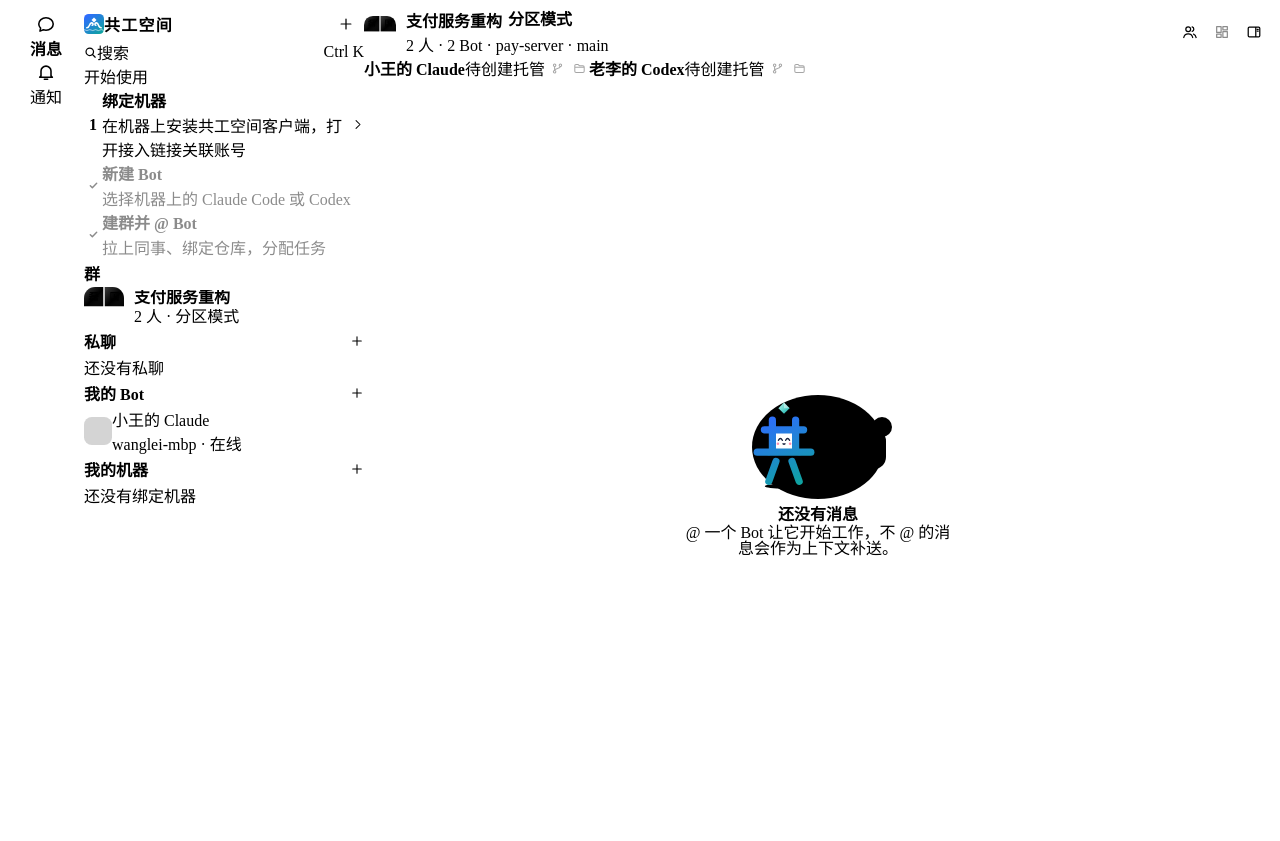
Test: group settings inspector › edits the name and notice, then shows the notice bar
The image size is (1280, 841).
Click the button named "群设置" at (1254, 32), box top-left (1238, 18), bottom-right (1270, 46)
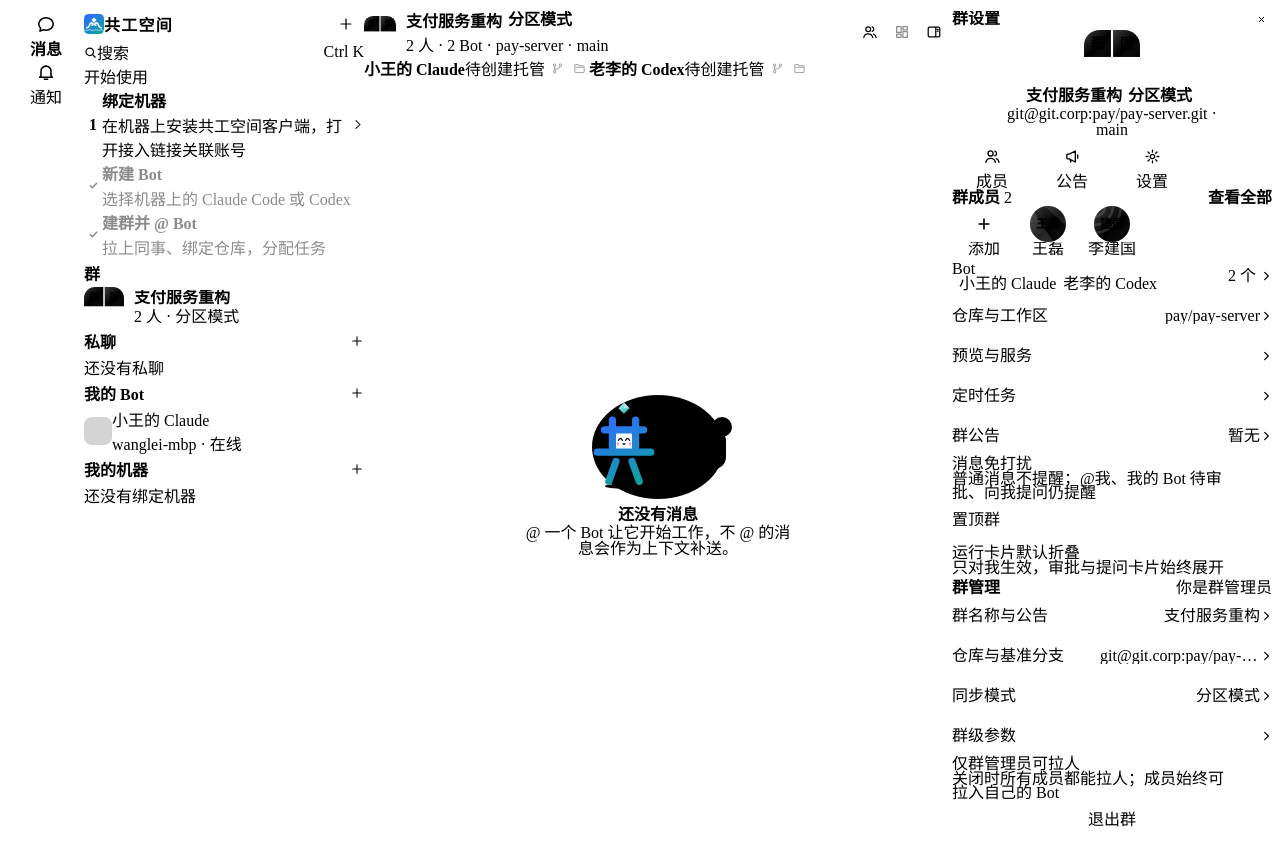
Click the button "群名称与公告 支付服务重构" at (1000, 616), box top-left (952, 596), bottom-right (1272, 636)
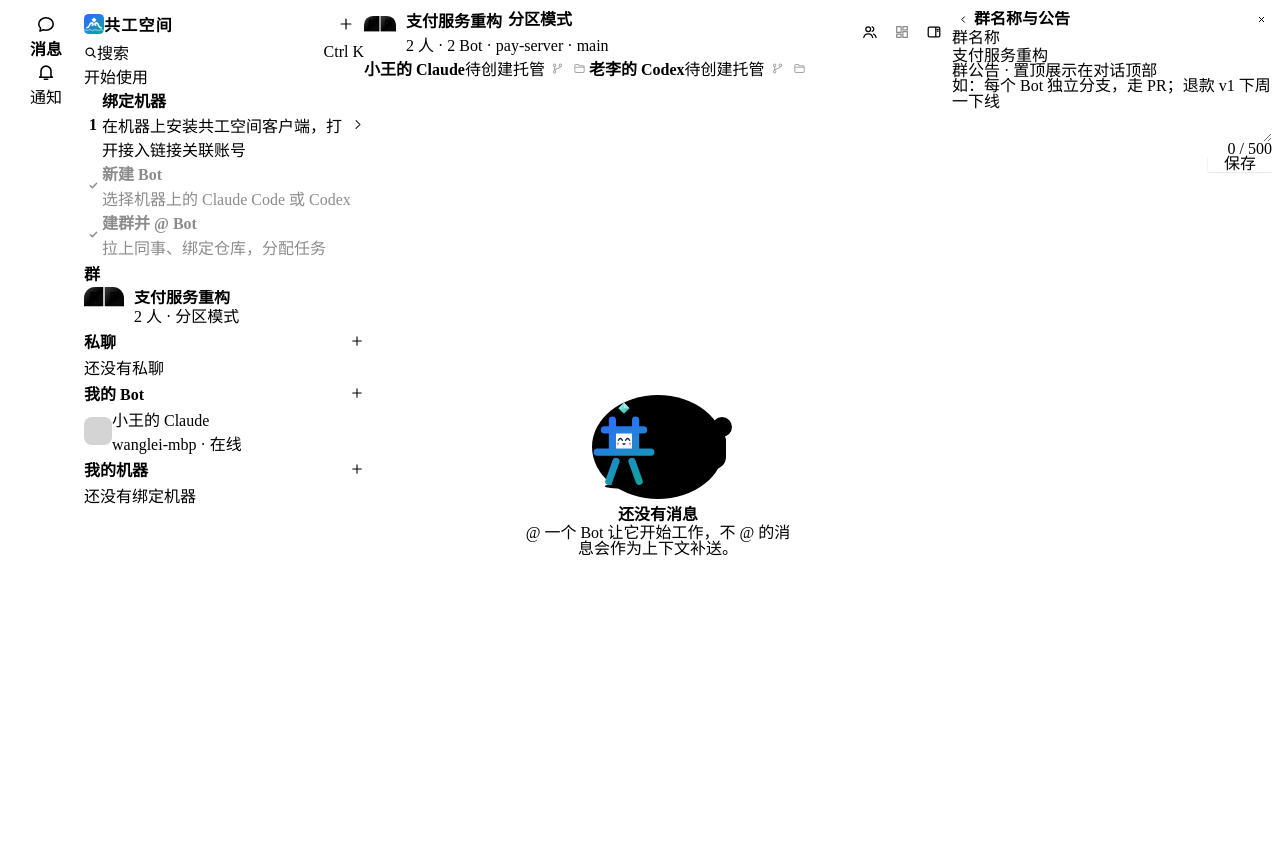
Replace the text in the field labelled "群名称" with "设置后" at (1112, 54), box top-left (952, 45), bottom-right (1272, 63)
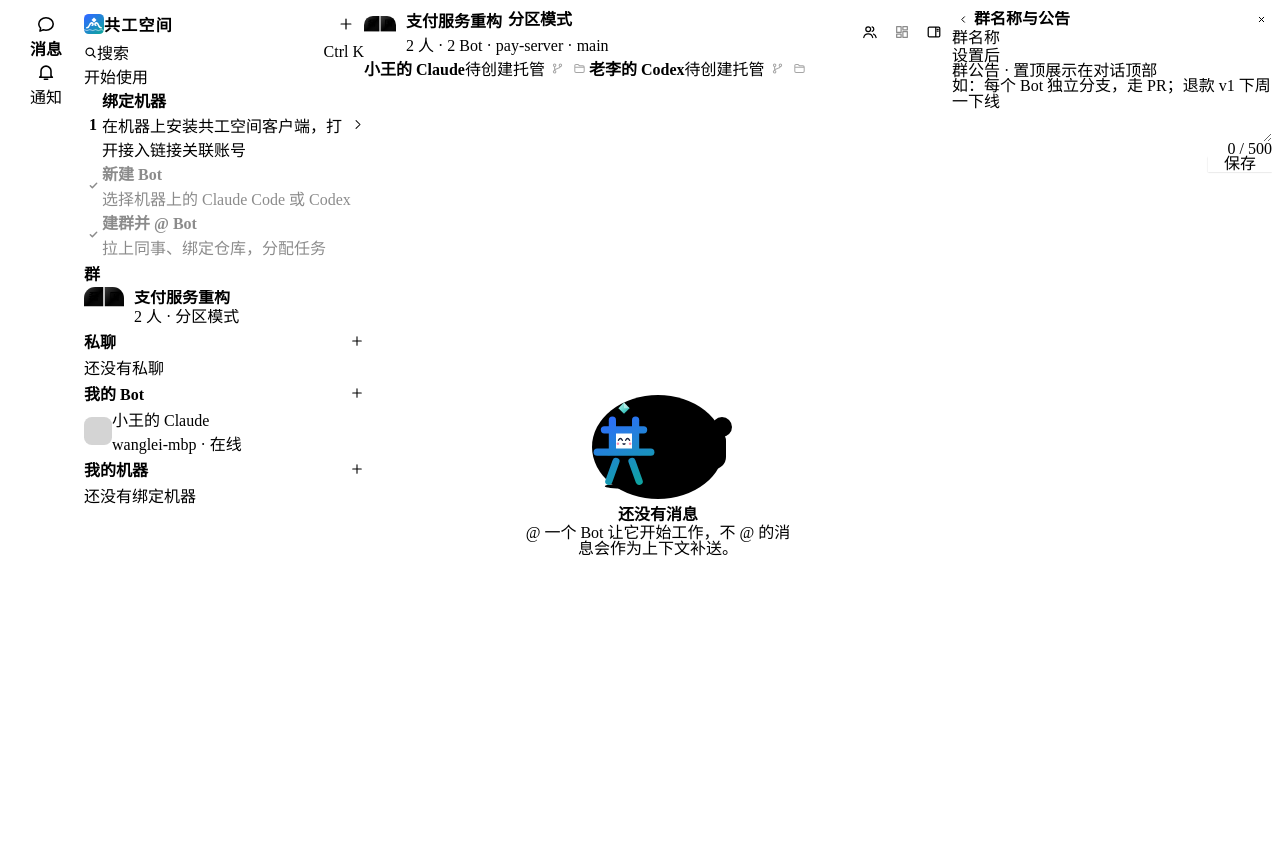
Type "每个 Bot 独立分支，走 PR" into the text box labelled "群公告 · 置顶展示在对话顶部" at (1112, 110), box top-left (952, 78), bottom-right (1272, 142)
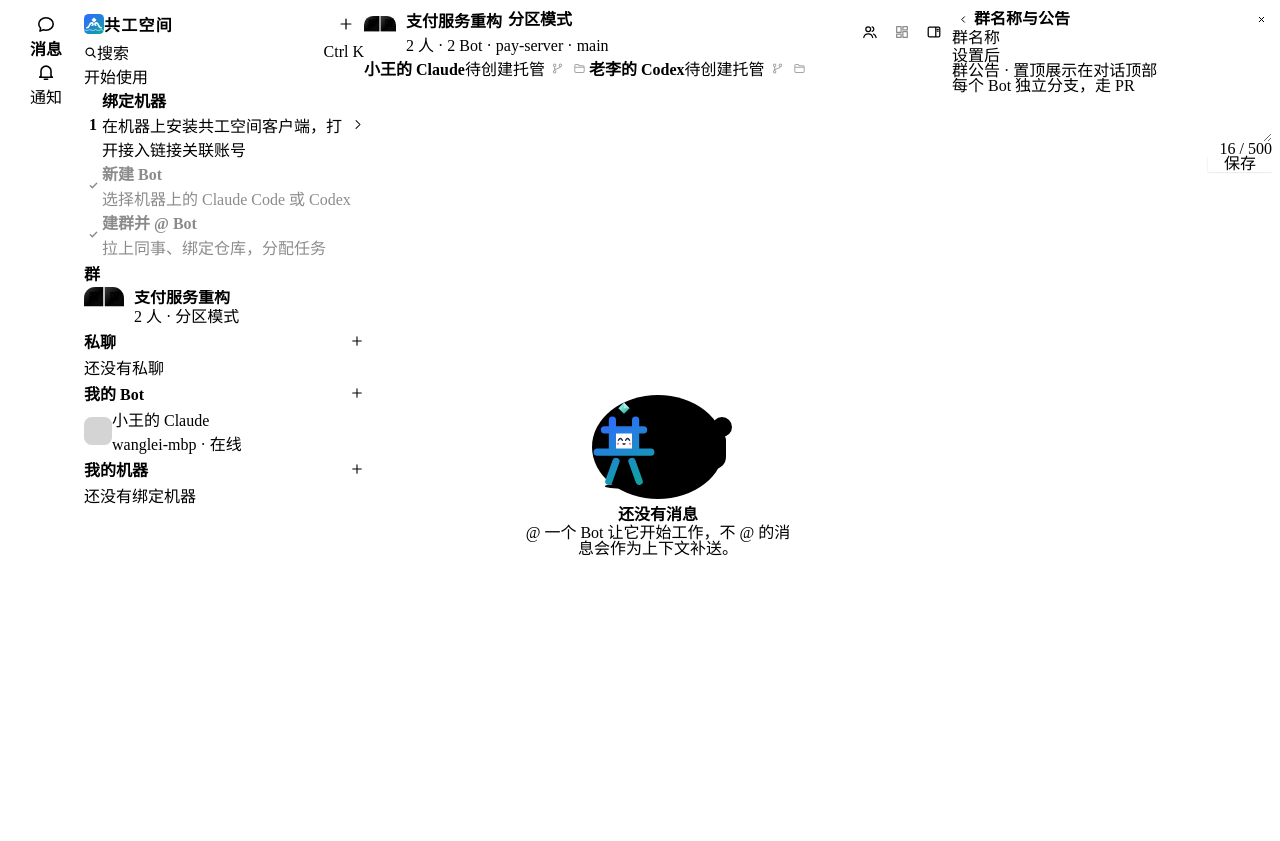
Click the button "保存" at (1240, 164), box top-left (1208, 156), bottom-right (1272, 172)
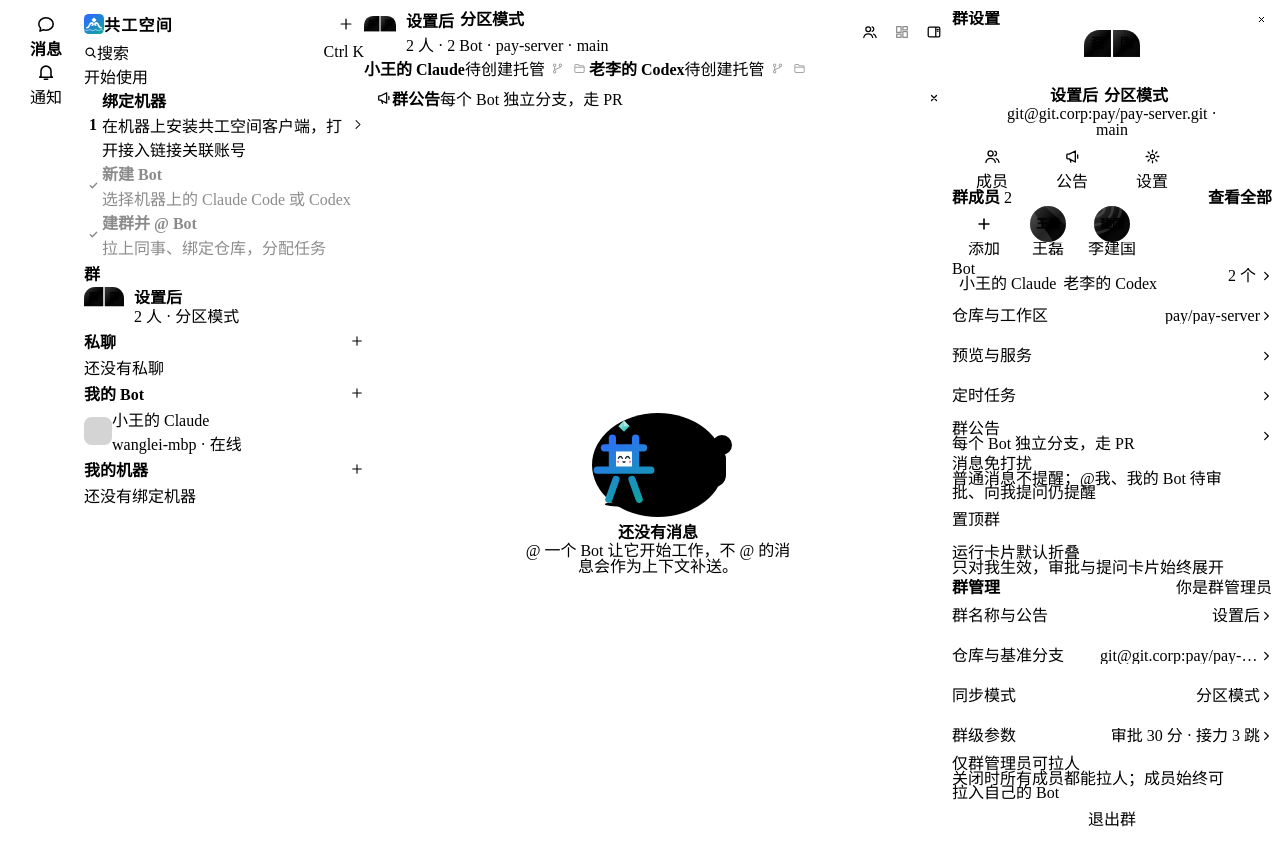
Check: the element with test id "group-notice" shows "每个 Bot 独立分支，走 PR", box top-left (440, 91), bottom-right (623, 108)
Check: the heading "设置后" is shown, box top-left (406, 8), bottom-right (454, 32)
